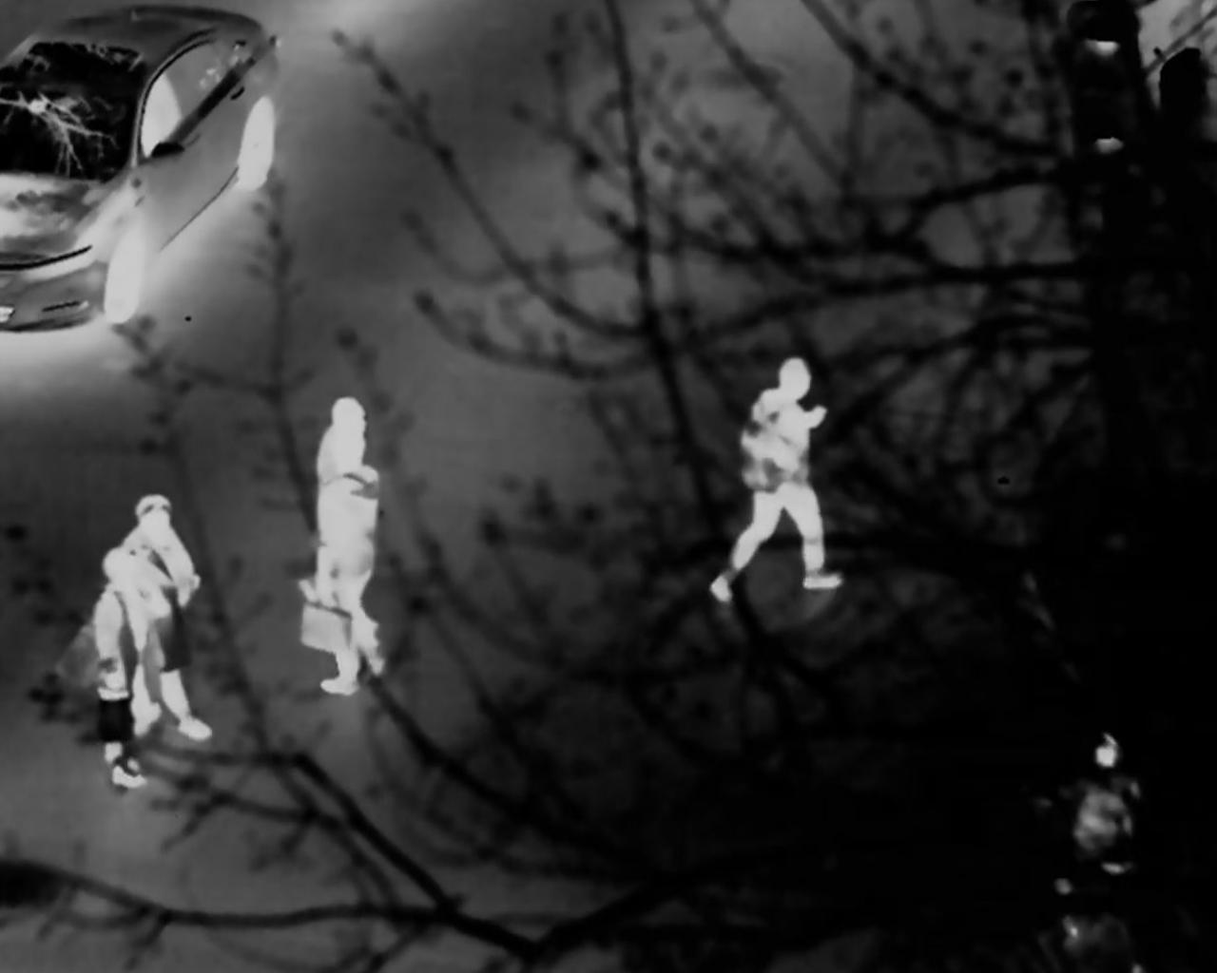person: (704, 353, 852, 600), (105, 499, 213, 743), (64, 549, 175, 784), (1041, 729, 1145, 938), (304, 428, 385, 692), (297, 400, 388, 624)
